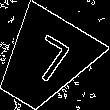L_SW: (15, 32, 73, 91)
